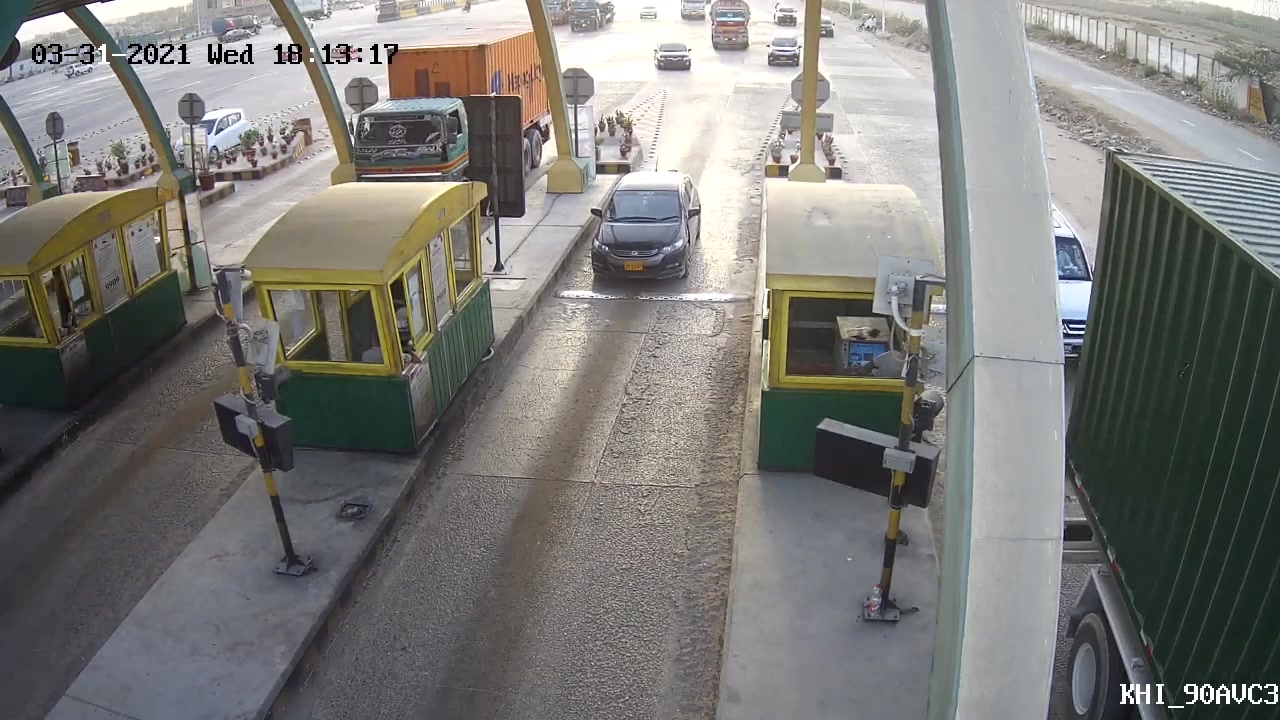F1: (580, 165, 710, 291)
